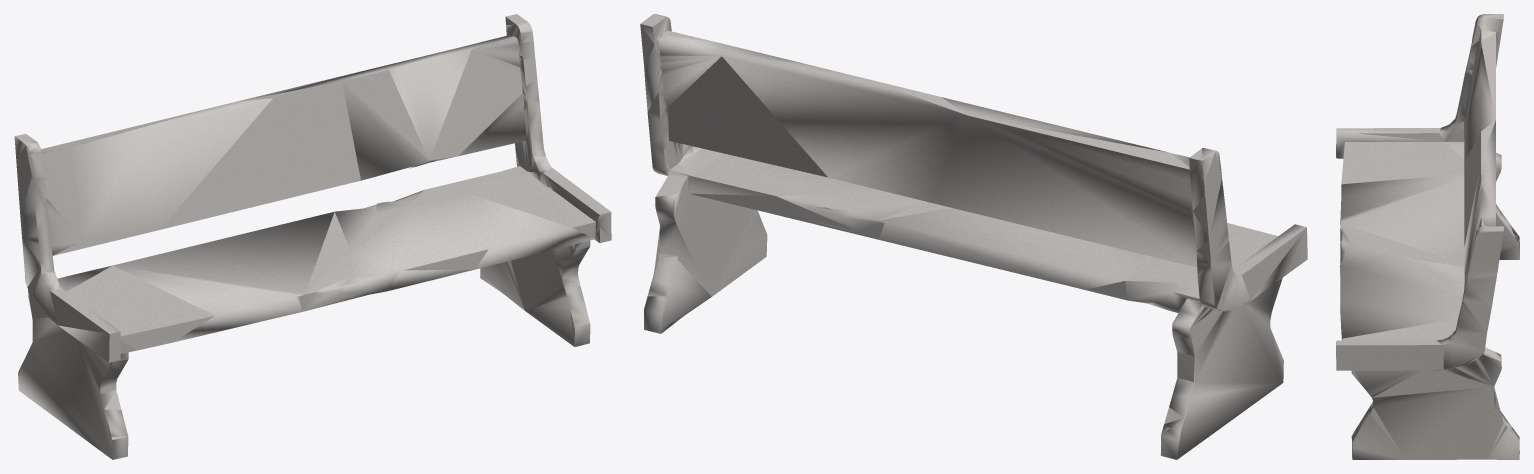
The model's file is Banc.fbx.
The picture shows the model from 3 angles, left to right: view 1: azimuth 30°, elevation 25°; view 2: azimuth 150°, elevation 25°; view 3: azimuth 270°, elevation 25°; orthographic projection. The views are drawn at different scales.
Visible parts, largest first — view 1: Mesh_0; view 2: Mesh_0; view 3: Mesh_0.
Boxes of the visible parts, box(x1,y1,x2,y2) form: Mesh_0: box(14, 14, 611, 459); Mesh_0: box(640, 14, 1307, 459); Mesh_0: box(1336, 14, 1519, 459).
Size of the model in its own units: 190 by 95.61 by 68.04.
1 material, 1 textured.
